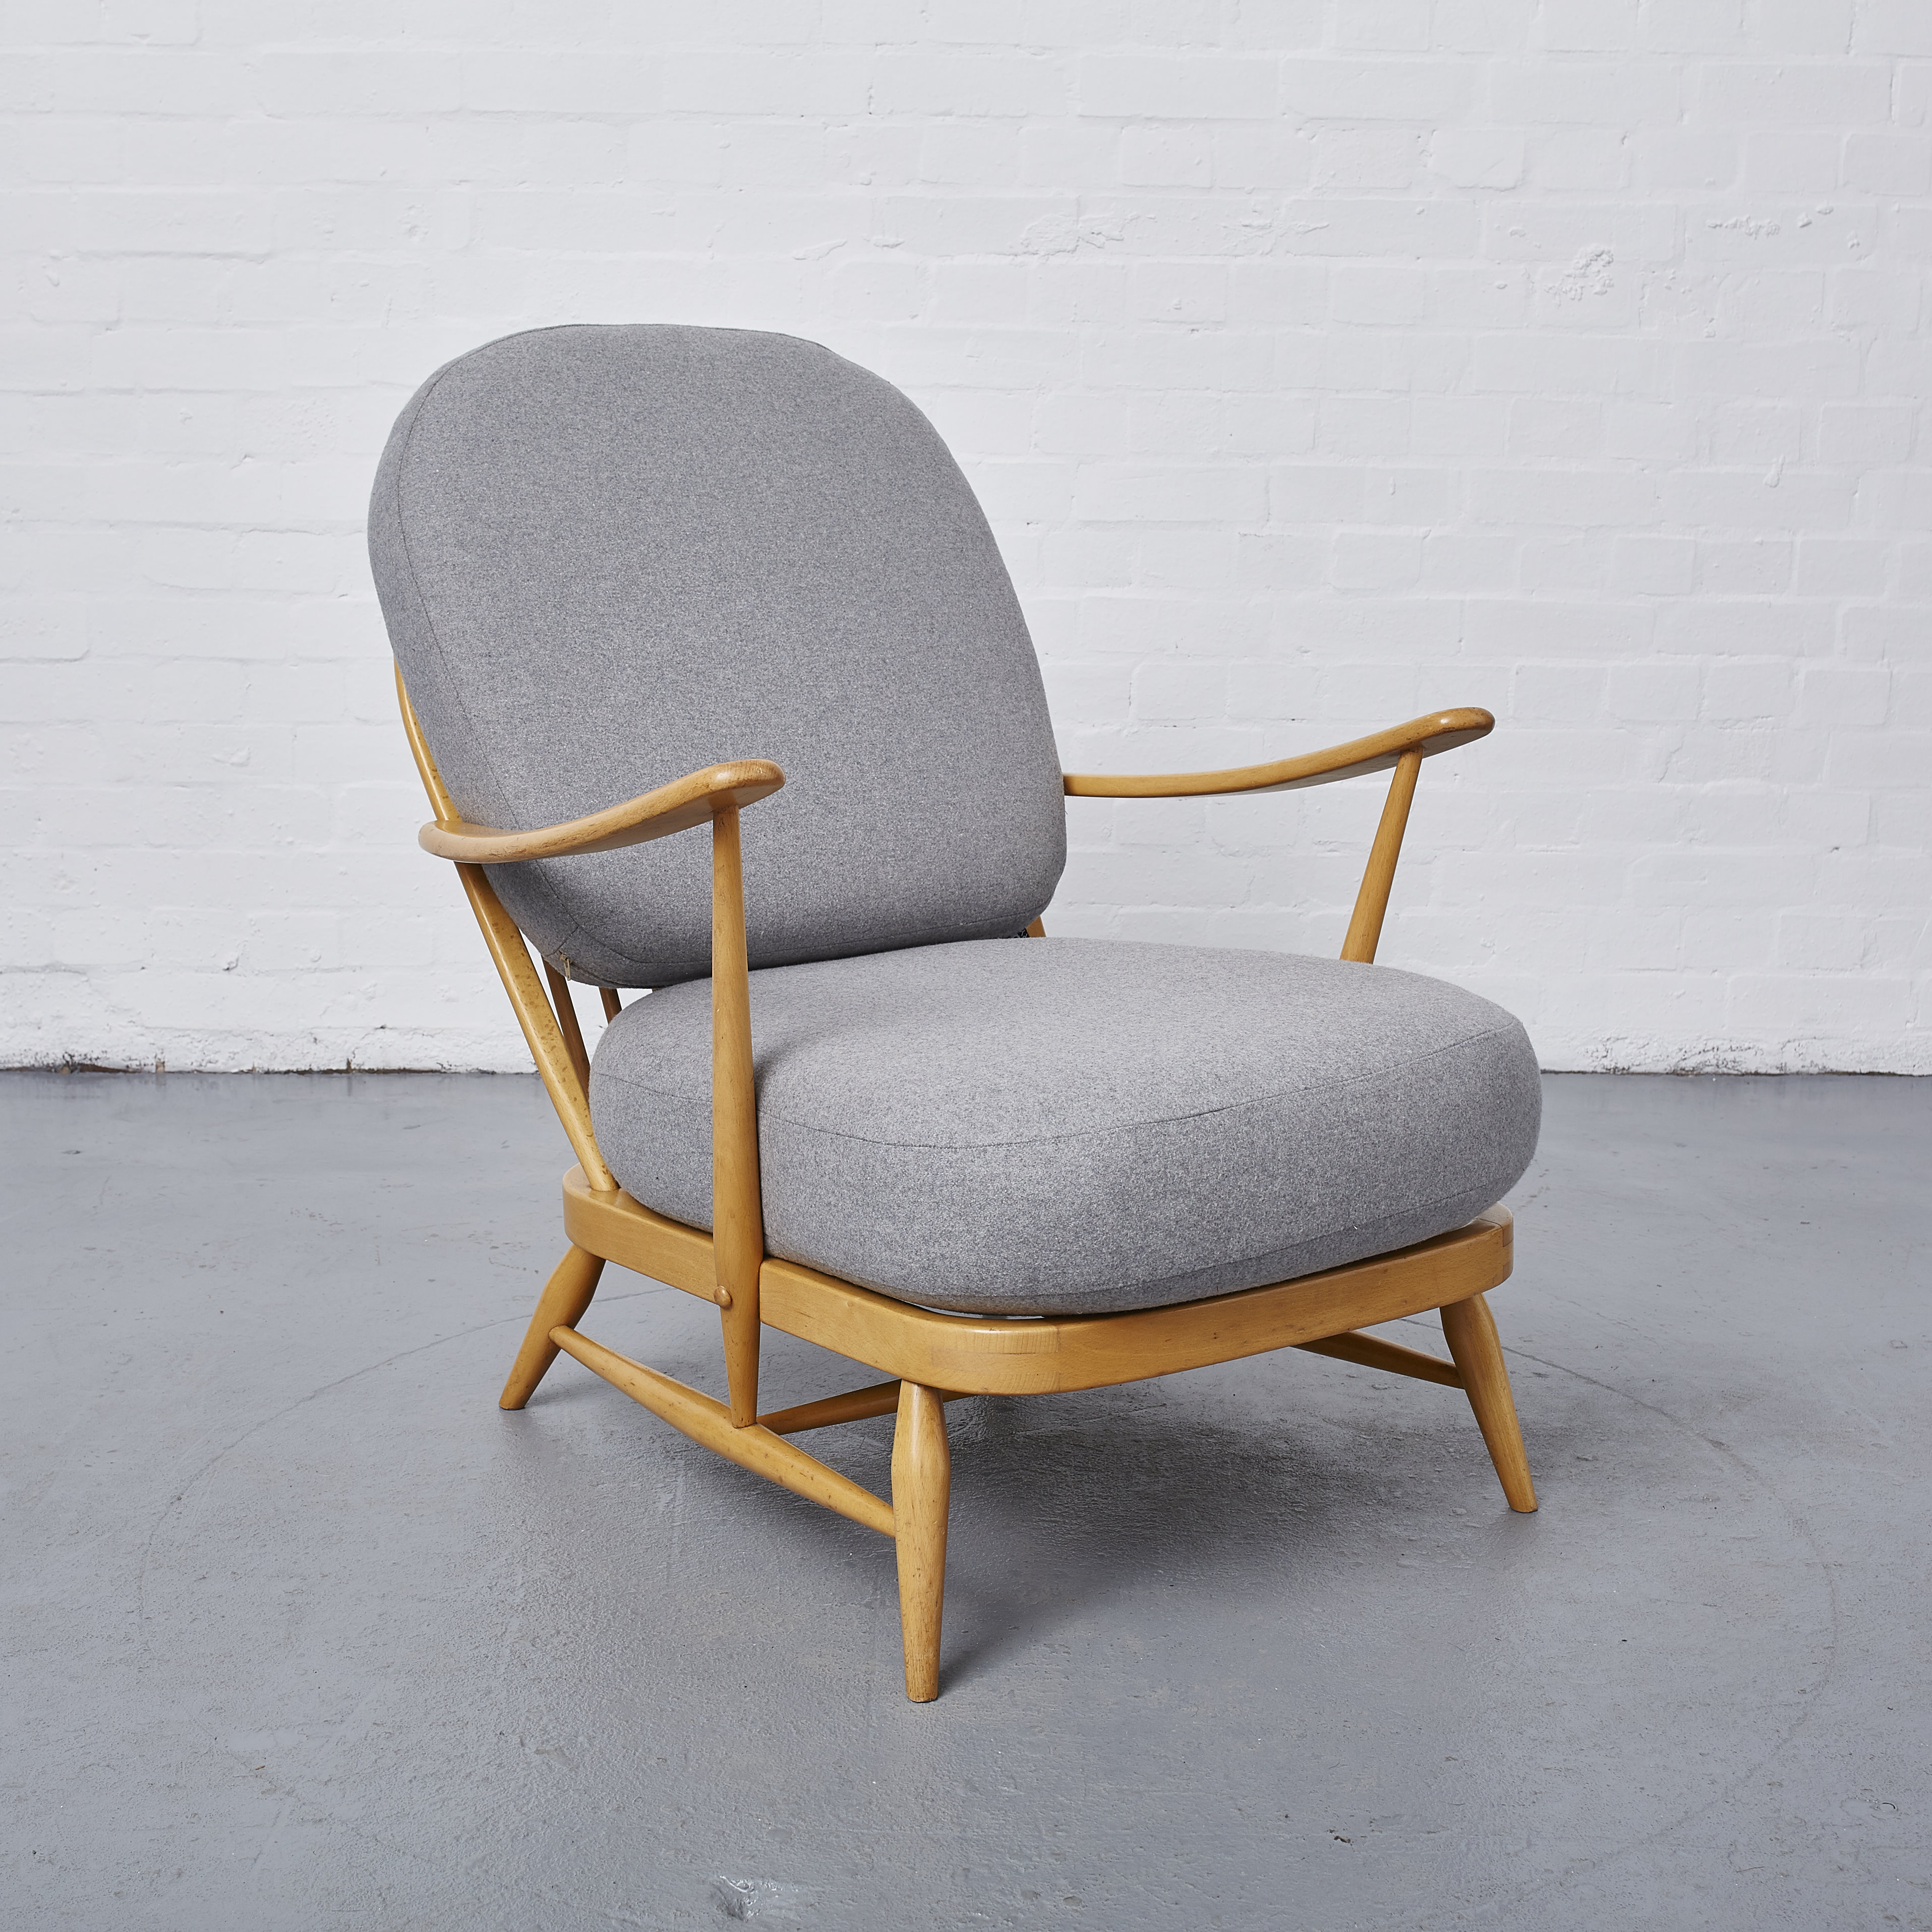chairs: (324, 301, 1564, 1713)
